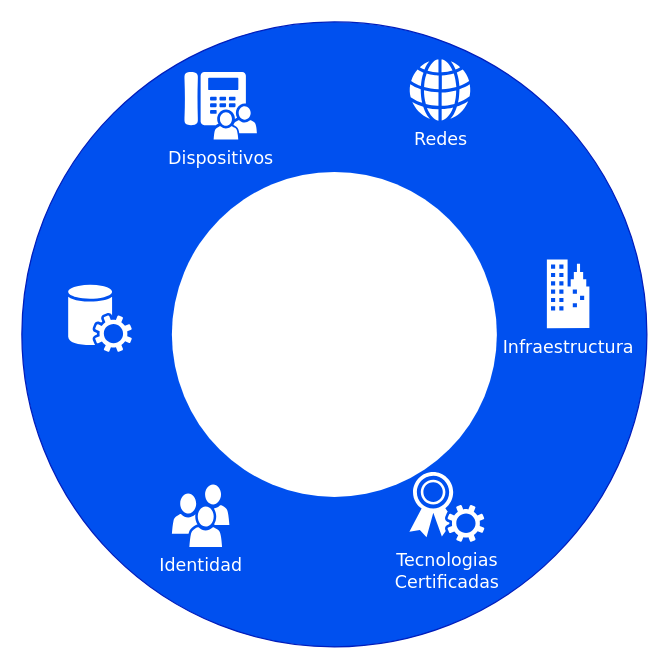
Some shapes in this 669 by 669 pixel diagram are drawn without their labels. Here are the shapes that lost their labels. From the top down, the centre of each, then its label:
At point 99,317: "Base De Datos".
At point 333,333: "Impacto Funcional".
